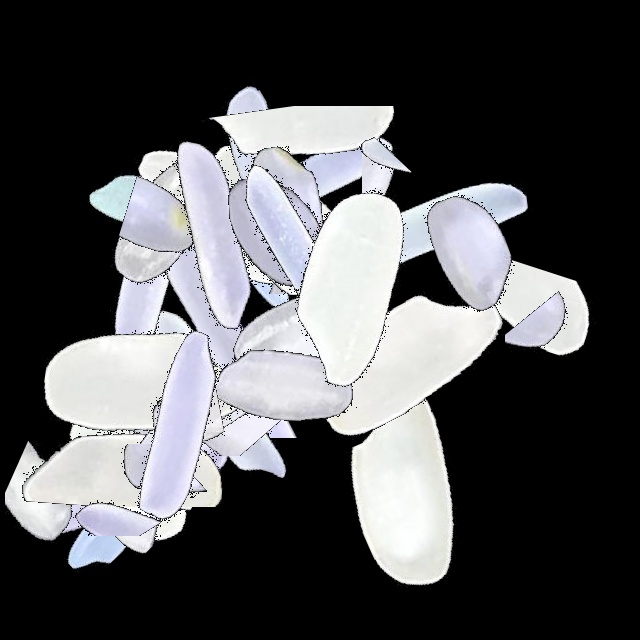Broken: (82, 192, 249, 442), (0, 380, 250, 540), (0, 353, 250, 507), (70, 156, 320, 297), (366, 257, 616, 394), (5, 382, 141, 632), (27, 344, 277, 478), (122, 274, 251, 524), (184, 309, 434, 438), (90, 327, 340, 456), (173, 106, 423, 231), (283, 186, 407, 436), (362, 82, 485, 332), (11, 444, 261, 567), (162, 183, 412, 294), (267, 228, 517, 331), (505, 233, 604, 483), (91, 123, 187, 373), (0, 440, 250, 536), (356, 97, 445, 347), (59, 364, 309, 446)
Full: (116, 121, 366, 371), (8, 363, 258, 613), (279, 365, 529, 615), (55, 87, 305, 337), (181, 60, 431, 310), (217, 154, 467, 404), (280, 230, 530, 480), (107, 86, 357, 336), (163, 96, 413, 346), (301, 106, 551, 356), (96, 271, 346, 521), (0, 329, 250, 579), (0, 390, 250, 640), (57, 284, 307, 534), (83, 182, 333, 432), (136, 29, 386, 279), (41, 99, 291, 349), (346, 128, 596, 378), (0, 365, 250, 615), (182, 205, 432, 455), (77, 293, 327, 543), (20, 258, 270, 508), (159, 259, 409, 509), (55, 299, 305, 549), (162, 79, 412, 329), (87, 112, 337, 362), (153, 107, 403, 357), (174, 128, 424, 378), (231, 164, 481, 414)
